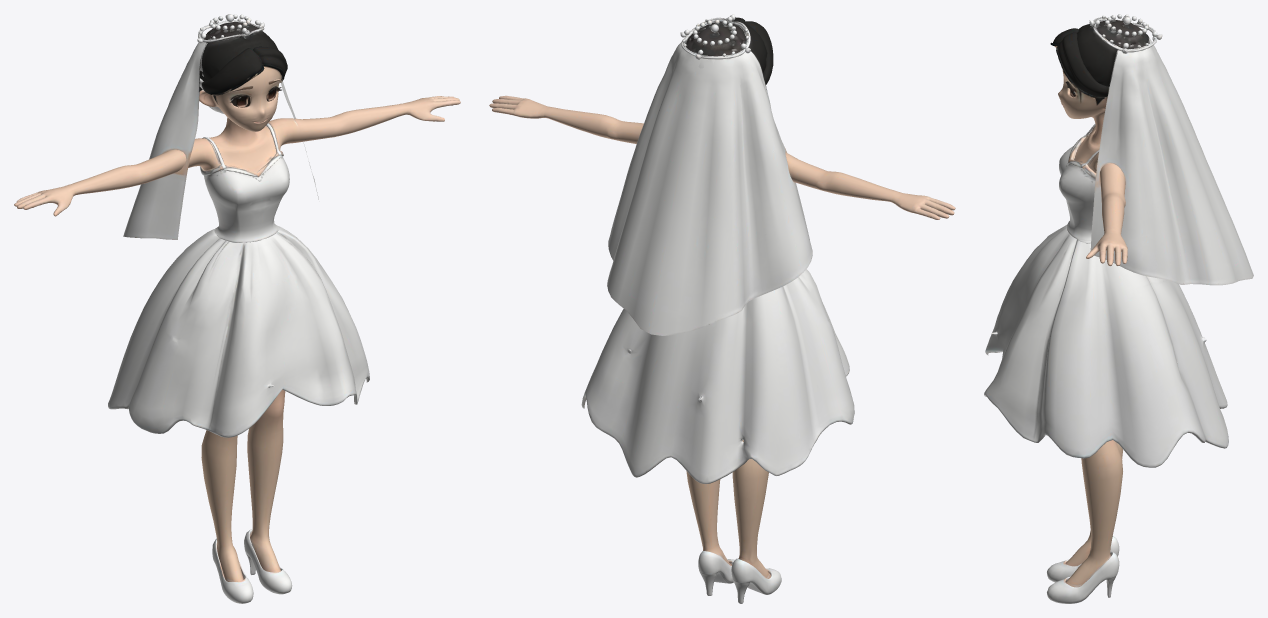
The model's file is toonstudio_wedding.glb.
3 views of the same model, side by side, from view 1: azimuth 30°, elevation 25°; view 2: azimuth 150°, elevation 25°; view 3: azimuth 270°, elevation 25° (orthographic). The views are drawn at different scales.
Parts seen in each view (by area): view 1: tripo_03091ca1_b3e7_420d_b632_3f77a1a402f3; view 2: tripo_03091ca1_b3e7_420d_b632_3f77a1a402f3; view 3: tripo_03091ca1_b3e7_420d_b632_3f77a1a402f3.
Part boxes in pixels (left/top/right/bottom): tripo_03091ca1_b3e7_420d_b632_3f77a1a402f3: left=14, top=14, right=460, bottom=603; tripo_03091ca1_b3e7_420d_b632_3f77a1a402f3: left=489, top=14, right=955, bottom=603; tripo_03091ca1_b3e7_420d_b632_3f77a1a402f3: left=984, top=14, right=1253, bottom=603.
Size of the model in its own units: 1.41 by 1.7 by 0.725.
1 material, 1 textured.
